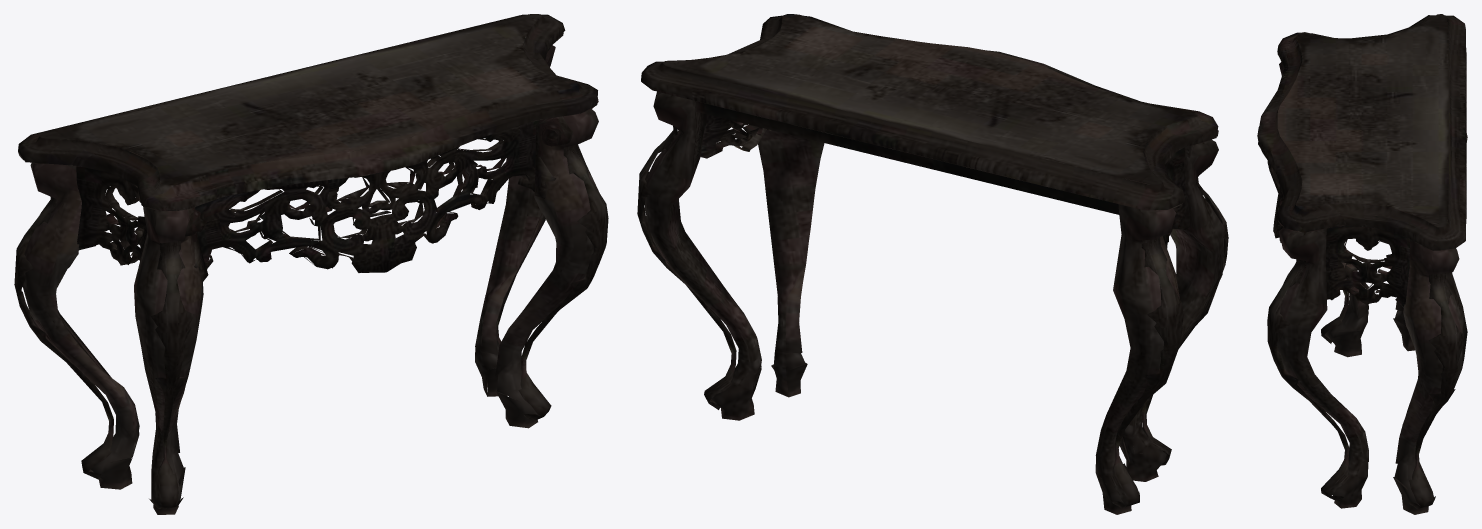
File: ClassicConsole_01.glb
The picture shows the model from 3 angles, left to right: view 1: azimuth 30°, elevation 25°; view 2: azimuth 150°, elevation 25°; view 3: azimuth 270°, elevation 25°; orthographic projection. The views are drawn at different scales.
Parts seen in each view (by area): view 1: ClassicConsole_01; view 2: ClassicConsole_01; view 3: ClassicConsole_01.
Boxes of the visible parts, x1,y1,x2,y2 form: ClassicConsole_01: [14, 14, 608, 514]; ClassicConsole_01: [637, 14, 1228, 514]; ClassicConsole_01: [1257, 14, 1467, 514].
Size of the model in its own units: 1.54 by 0.9501 by 0.5901.
Materials: 1 (1 with a texture image).
